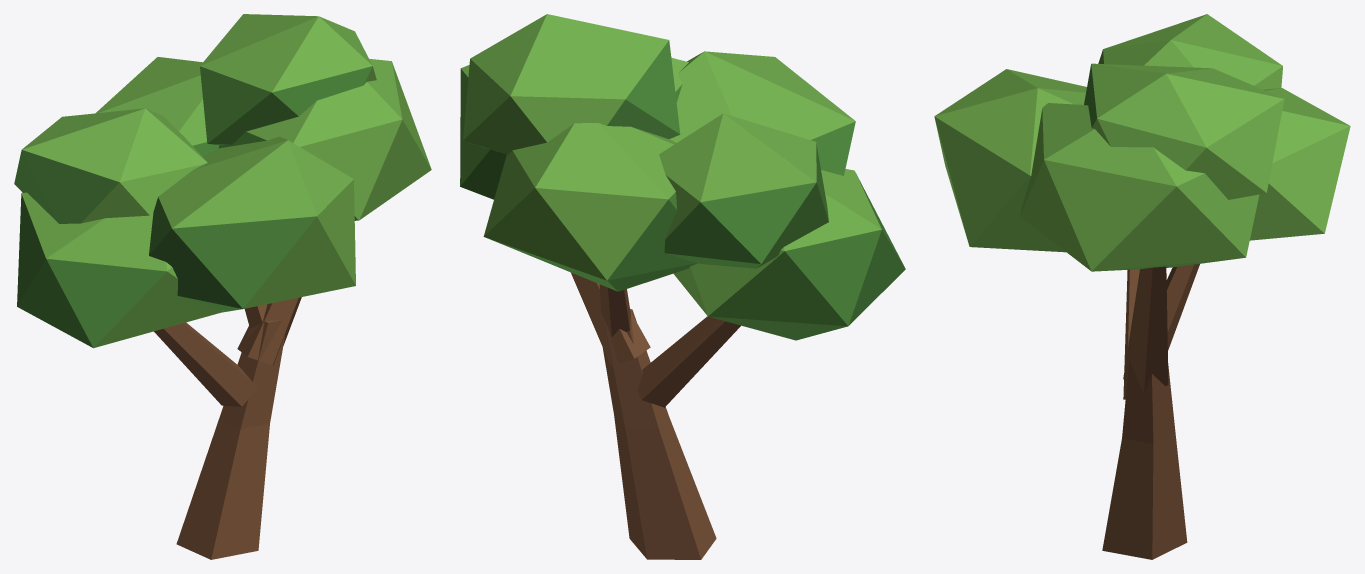
The model's file is BE_Nature_TreeRoundB.fbx.
3 renders of one model, left to right at view 1: azimuth 30°, elevation 25°; view 2: azimuth 150°, elevation 25°; view 3: azimuth 270°, elevation 25°, orthographic. The views are drawn at different scales.
Visible parts, largest first — view 1: BE_Nature_TreeRoundB_LeafBase_6FAE4A, BE_Nature_TreeRoundB_LeafShade_4C8A3A, BE_Nature_TreeRoundB_TrunkBase_7A5236, BE_Nature_TreeRoundB_TrunkShade_62412C; view 2: BE_Nature_TreeRoundB_LeafBase_6FAE4A, BE_Nature_TreeRoundB_LeafShade_4C8A3A, BE_Nature_TreeRoundB_TrunkBase_7A5236, BE_Nature_TreeRoundB_TrunkShade_62412C; view 3: BE_Nature_TreeRoundB_LeafBase_6FAE4A, BE_Nature_TreeRoundB_TrunkBase_7A5236, BE_Nature_TreeRoundB_TrunkShade_62412C, BE_Nature_TreeRoundB_LeafShade_4C8A3A.
Part boxes in pixels (x1=…): BE_Nature_TreeRoundB_LeafBase_6FAE4A: x1=21, y1=14, x2=431, y2=347; BE_Nature_TreeRoundB_LeafShade_4C8A3A: x1=14, y1=66, x2=372, y2=347; BE_Nature_TreeRoundB_TrunkBase_7A5236: x1=164, y1=297, x2=301, y2=559; BE_Nature_TreeRoundB_TrunkShade_62412C: x1=154, y1=329, x2=241, y2=406; BE_Nature_TreeRoundB_LeafBase_6FAE4A: x1=460, y1=14, x2=881, y2=315; BE_Nature_TreeRoundB_LeafShade_4C8A3A: x1=460, y1=40, x2=905, y2=340; BE_Nature_TreeRoundB_TrunkBase_7A5236: x1=571, y1=272, x2=740, y2=559; BE_Nature_TreeRoundB_TrunkShade_62412C: x1=603, y1=288, x2=700, y2=559; BE_Nature_TreeRoundB_LeafBase_6FAE4A: x1=934, y1=14, x2=1350, y2=271; BE_Nature_TreeRoundB_TrunkBase_7A5236: x1=1102, y1=264, x2=1199, y2=559; BE_Nature_TreeRoundB_TrunkShade_62412C: x1=1123, y1=266, x2=1168, y2=399; BE_Nature_TreeRoundB_LeafShade_4C8A3A: x1=1084, y1=64, x2=1242, y2=271.
Bounding box in the file's own units: 20 × 18 × 25.
